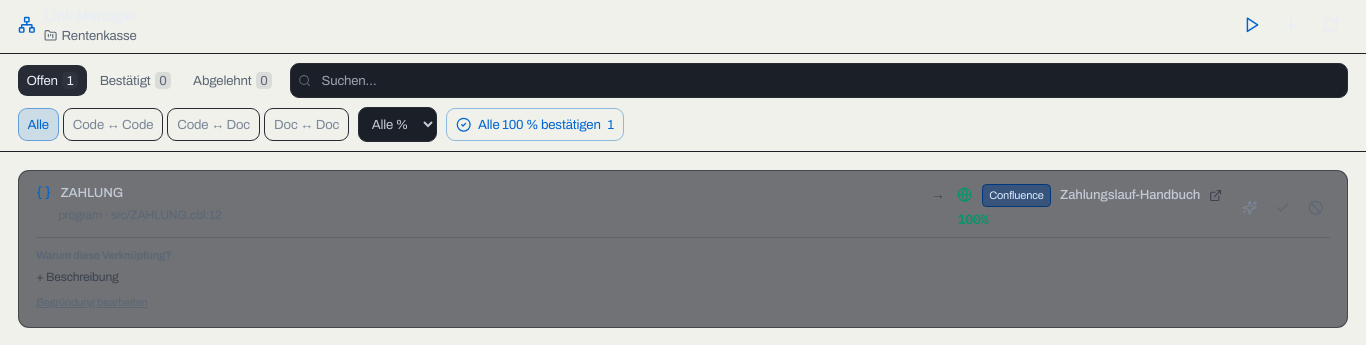
LinkManagerView › Alle-100%-Bestätigen › verschwindet außerhalb des Offen-Tabs
Check: the button "Alle 100 % bestätigen 1" is shown, box [446,108,624,141]
Click the button "Bestätigt 0" at (135, 81), box [91,65,180,96]
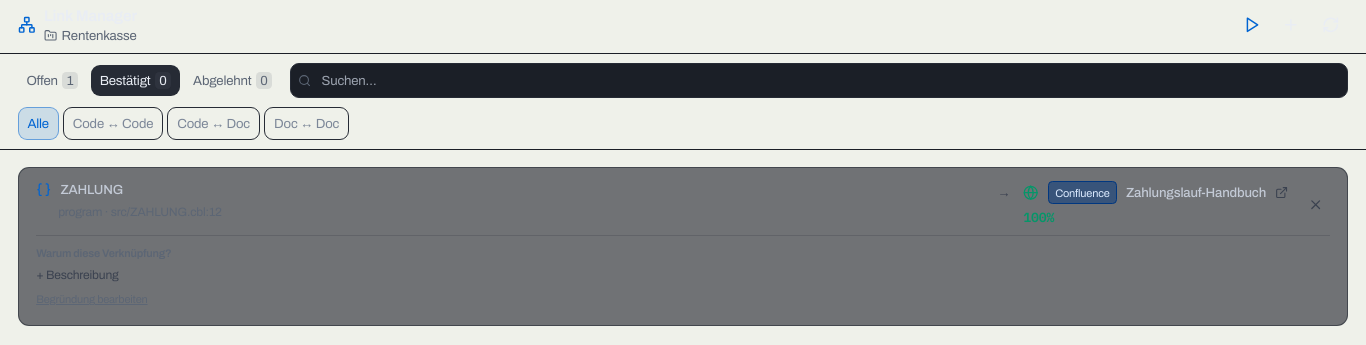
Check: the button "Alle 100 % bestätigen" is gone
